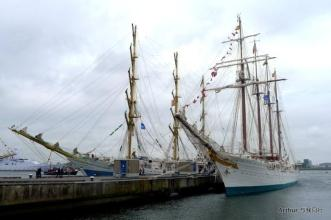fanchuan: (169, 12, 304, 199)
